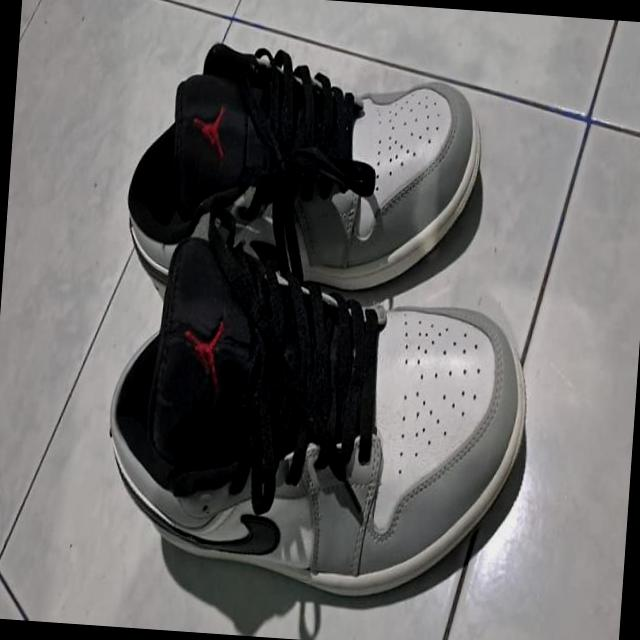nike_fake_jordan: (90, 227, 538, 608), (118, 34, 490, 332)
